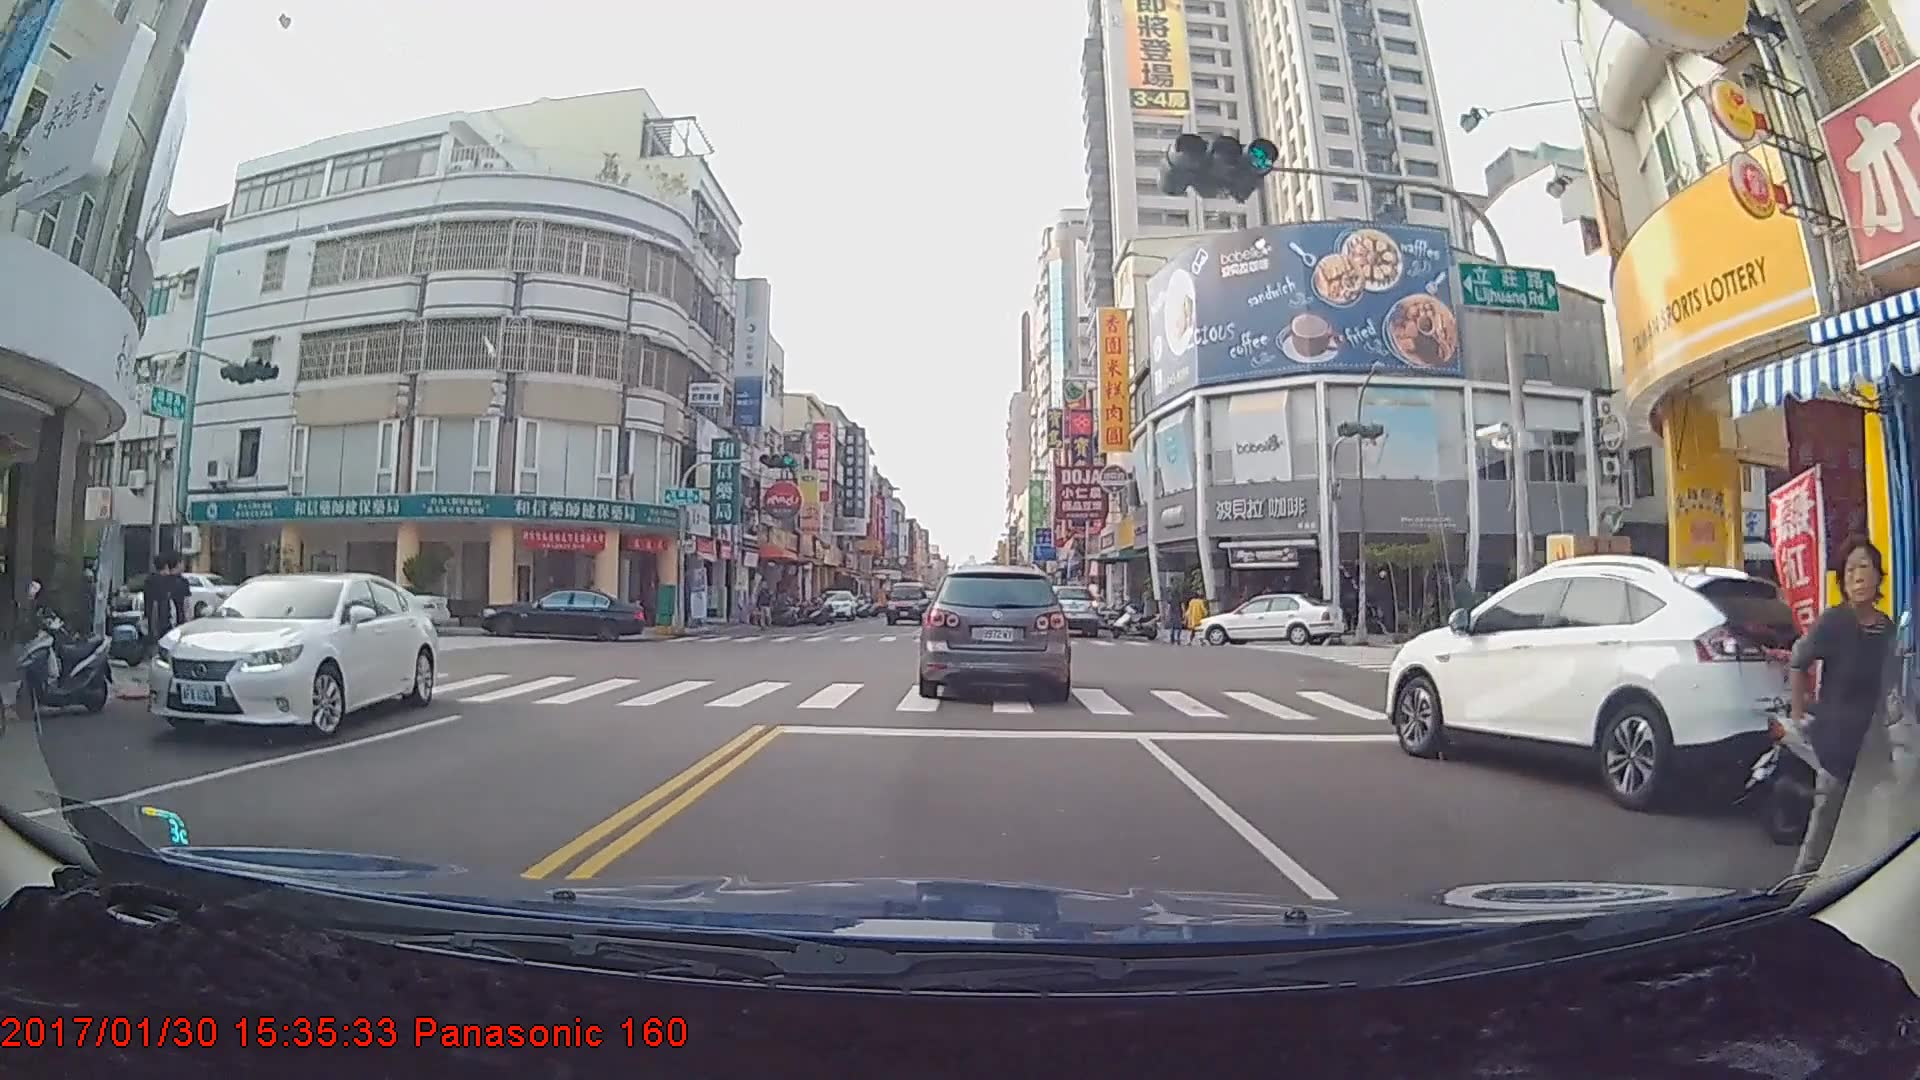pedestrian: (1785, 536, 1906, 929), (151, 551, 202, 710), (1186, 588, 1210, 647), (1168, 589, 1188, 649), (755, 581, 775, 634)
vehicle: (1386, 554, 1833, 817), (145, 570, 437, 739), (917, 562, 1070, 702), (477, 587, 644, 642), (1195, 589, 1342, 646), (1035, 582, 1098, 637), (885, 579, 929, 626), (815, 588, 858, 623)
